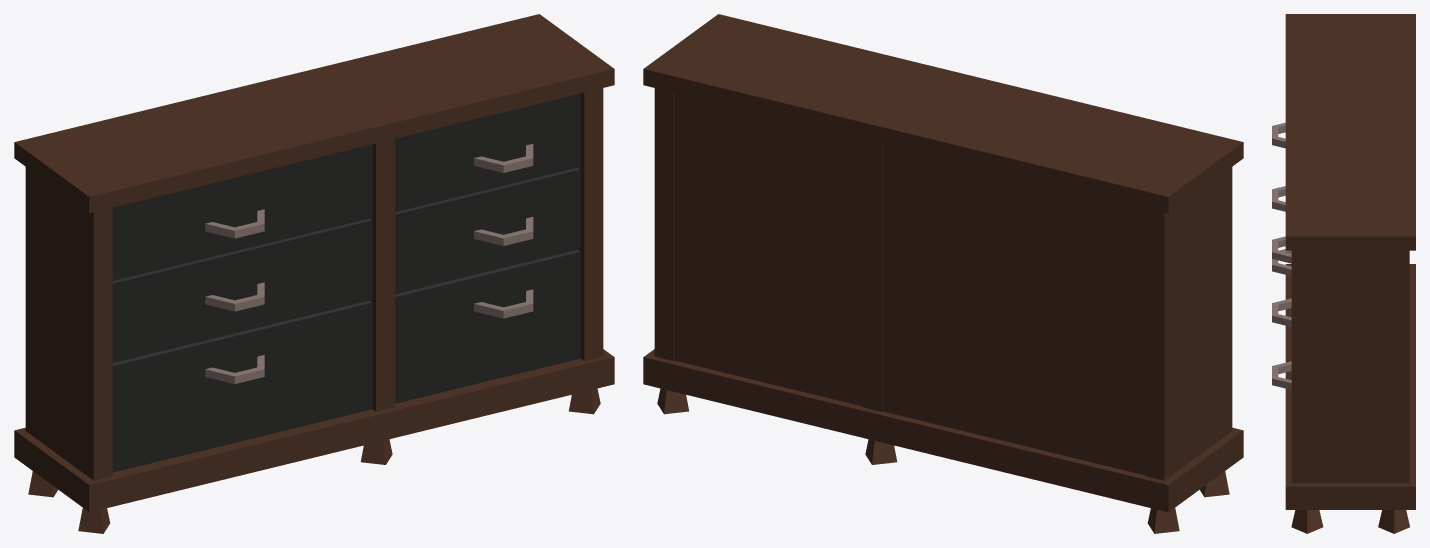
The model's file is Drawer_4B.fbx.
The picture shows the model from 3 angles, left to right: view 1: azimuth 30°, elevation 25°; view 2: azimuth 150°, elevation 25°; view 3: azimuth 270°, elevation 25°; orthographic projection. The views are drawn at different scales.
Parts seen in each view (by area): view 1: polySurface1699; view 2: polySurface1699; view 3: polySurface1699.
Part boxes in pixels (left/top/right/bottom): polySurface1699: left=14, top=14, right=614, bottom=533; polySurface1699: left=643, top=14, right=1243, bottom=533; polySurface1699: left=1272, top=14, right=1415, bottom=533.
Bounding box in the file's own units: 3.03 × 1.9 × 0.8282.
Materials: 1 (1 with a texture image).
